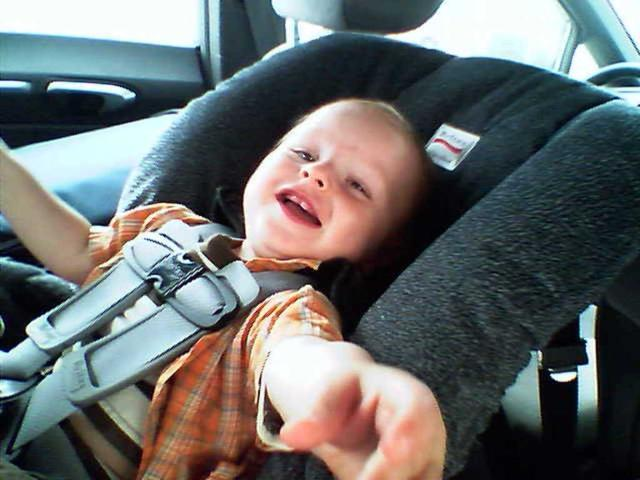SafeDriving: (340, 166, 379, 209)
Seatbelt: (0, 216, 314, 480), (538, 317, 590, 479), (244, 0, 284, 56)
